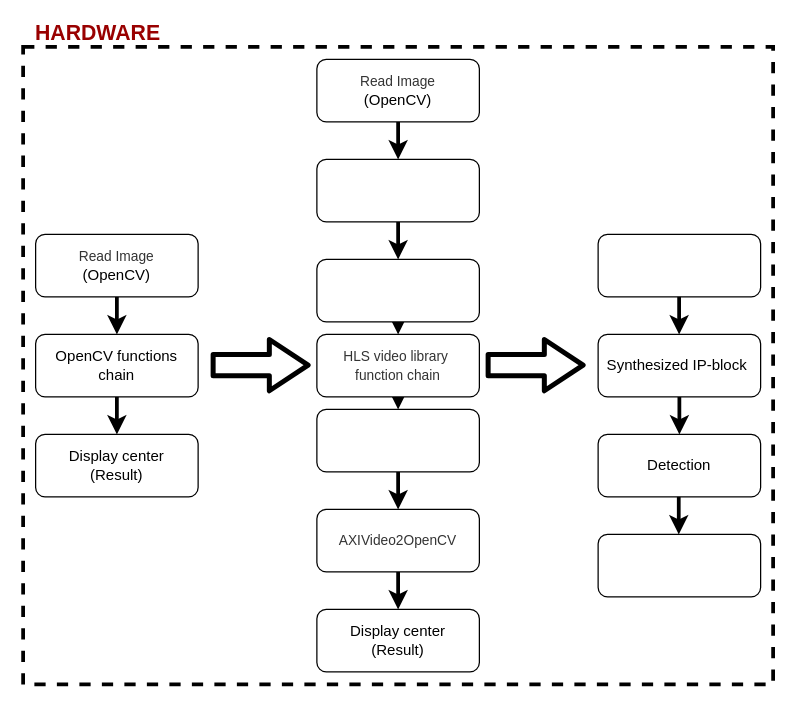
Image size: 796x708. Some labels were removed from this diagram. The centre of each missing label's shape, as x and y in pixels:
AXIVideo2MAT: point 397,290
MAT2AXIVideo: point 397,440
OpenCV2AXIVideo: point 397,190
Read Image: point 679,265
Write result to main controller: point 679,565
